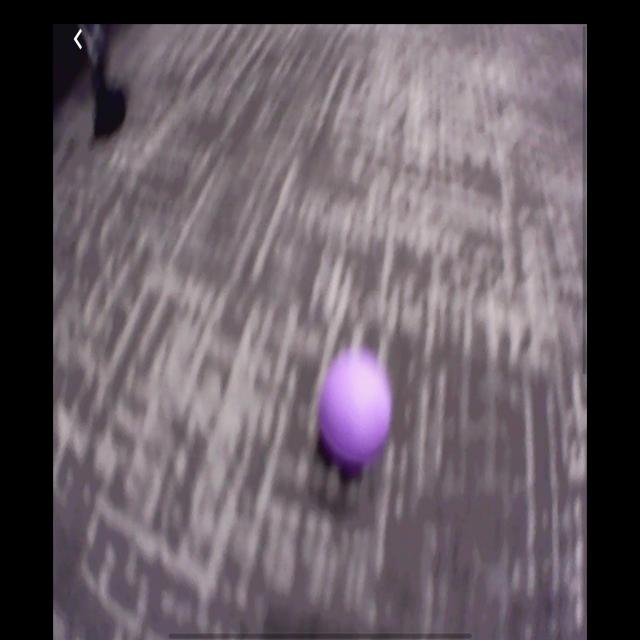ball: (317, 345, 394, 472)
